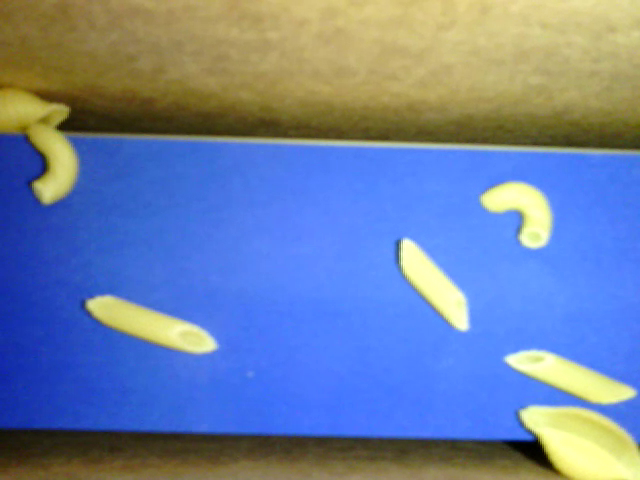elbow: (476, 178, 553, 250), (24, 122, 81, 204)
penne: (80, 288, 221, 358), (501, 345, 639, 404), (399, 235, 471, 329)
shell: (515, 403, 639, 479), (1, 89, 71, 132)
